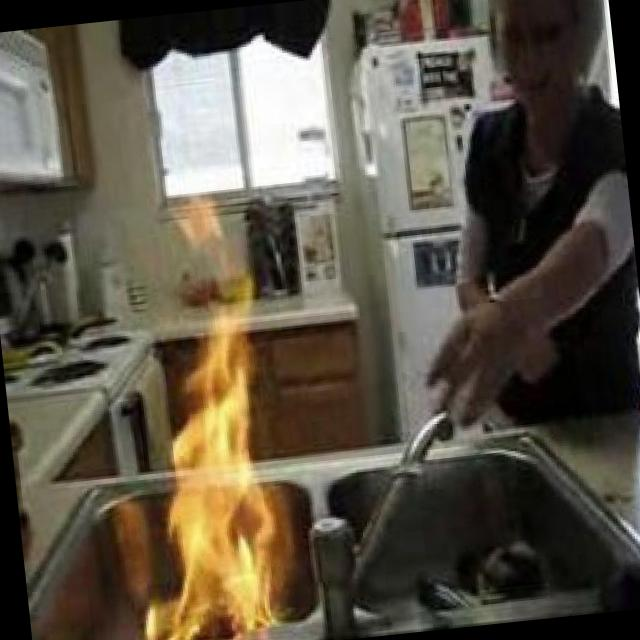Fire: (124, 187, 299, 640)
